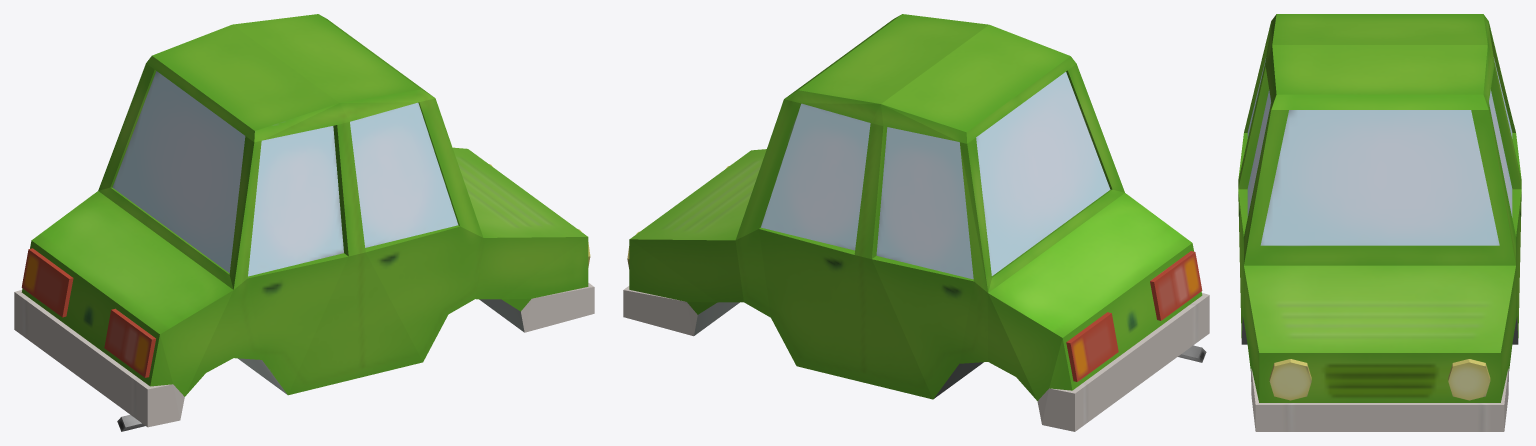
The model's file is co_CarA_03.fbx.
3 views of the same model, side by side, from view 1: azimuth 30°, elevation 25°; view 2: azimuth 150°, elevation 25°; view 3: azimuth 270°, elevation 25° (orthographic).
Parts seen in each view (by area): view 1: CarA_03; view 2: CarA_03; view 3: CarA_03.
Boxes of the visible parts, x1,y1,x2,y2 form: CarA_03: (14,14,594,431); CarA_03: (623,14,1209,431); CarA_03: (1238,14,1521,431).
Bounding box in the file's own units: 422 × 243 × 223.
